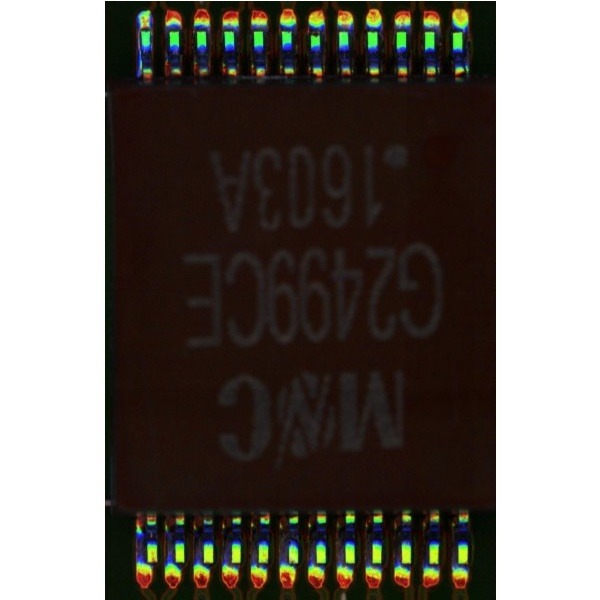Bad_podu: (141, 21, 149, 35)
Bad_qiaojiao: (137, 30, 142, 74)
